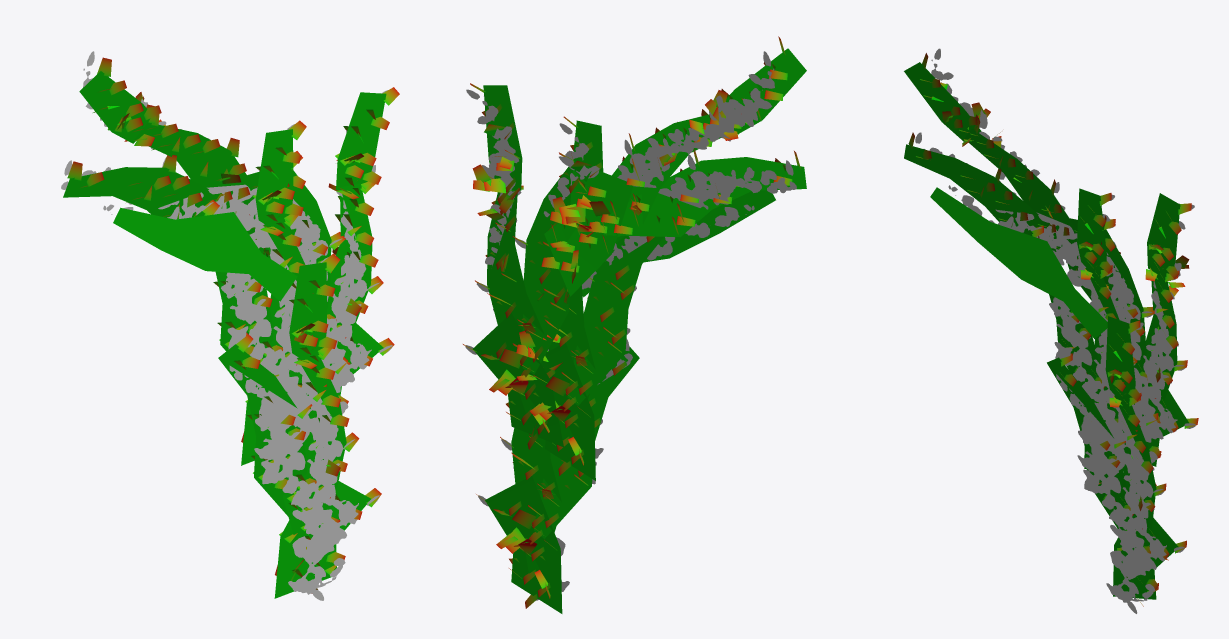
File: Ivy_A6.fbx
3 renders of one model, left to right at view 1: azimuth 30°, elevation 25°; view 2: azimuth 150°, elevation 25°; view 3: azimuth 330°, elevation 25°, orthographic. The views are drawn at different scales.
Visible parts, largest first — view 1: Ivy_A6_LOD0, Ivy_A6_Billboard; view 2: Ivy_A6_LOD0, Ivy_A6_Billboard; view 3: Ivy_A6_LOD0, Ivy_A6_Billboard.
Boxes of the visible parts, x1,y1,x2,y2 form: Ivy_A6_LOD0: (63,57,399,598); Ivy_A6_Billboard: (61,51,392,600); Ivy_A6_LOD0: (463,36,806,613); Ivy_A6_Billboard: (465,51,796,600); Ivy_A6_LOD0: (904,53,1198,606); Ivy_A6_Billboard: (915,48,1195,613).
Size of what is drawn, in the model's own units: 73.28 by 114 by 10.99.
